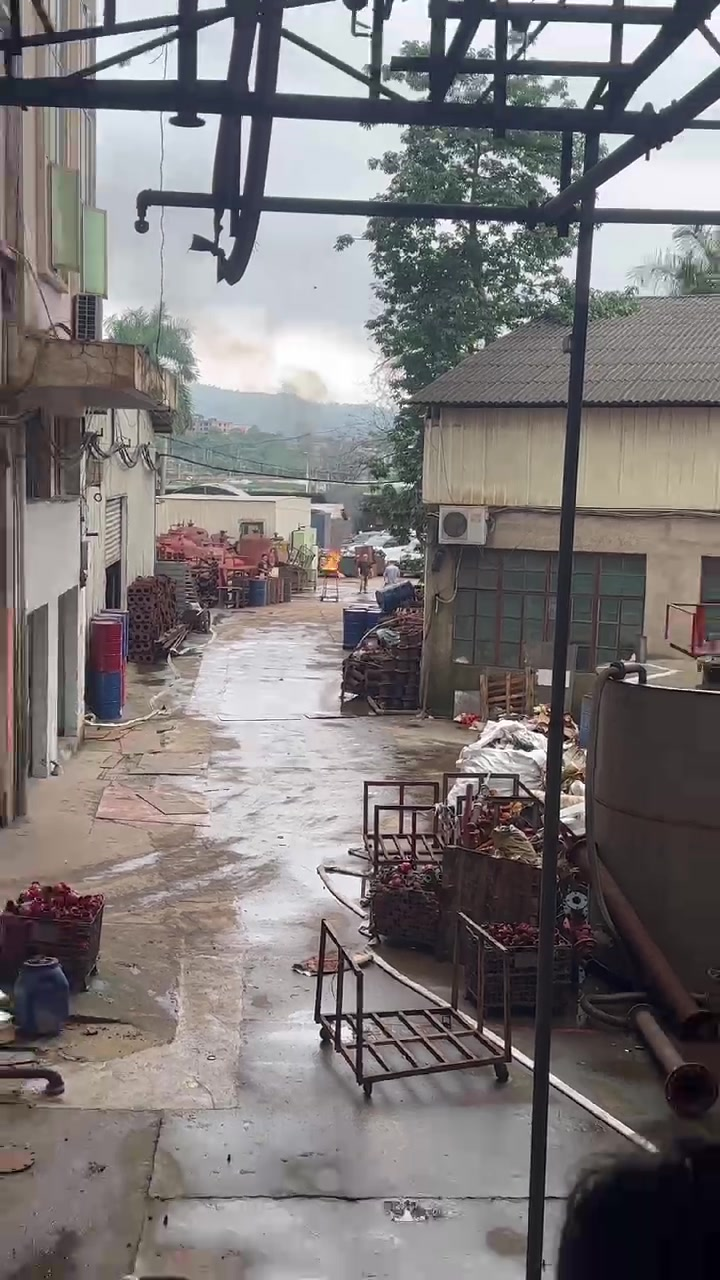fire: (323, 550, 338, 569)
